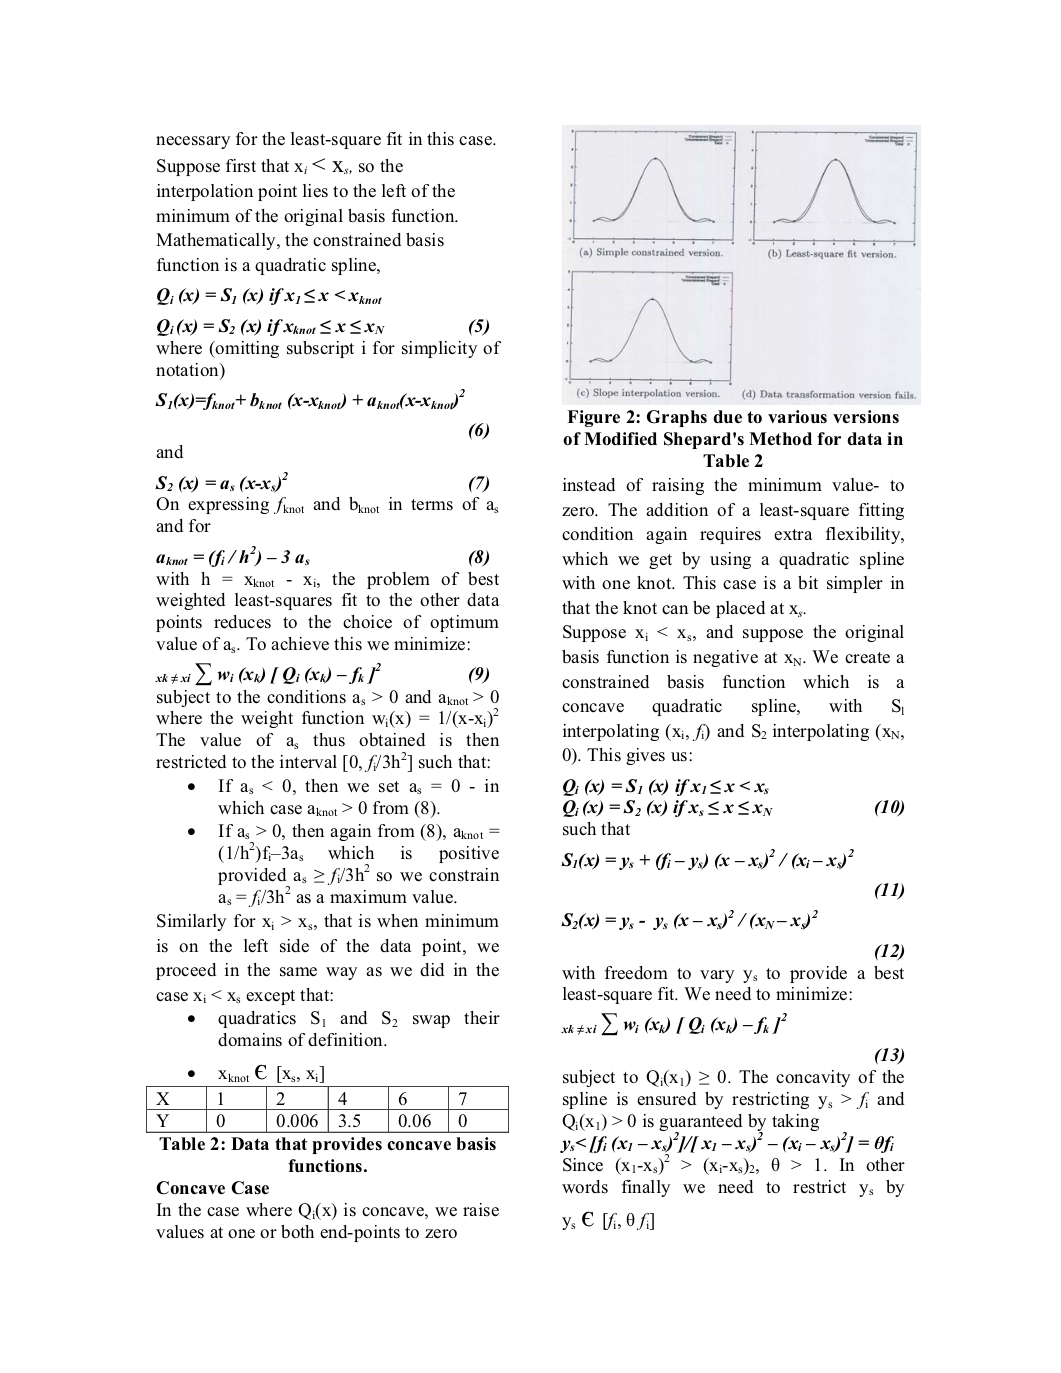Table: (146, 1085, 508, 1133)
figure: (562, 124, 919, 405)
formula: (155, 662, 489, 686), (156, 545, 489, 567), (155, 471, 489, 493), (155, 388, 464, 410), (559, 1132, 893, 1152), (561, 848, 853, 870), (563, 799, 904, 817), (157, 318, 489, 335), (561, 1012, 786, 1036), (561, 908, 817, 929), (157, 288, 381, 305), (563, 778, 768, 796)
